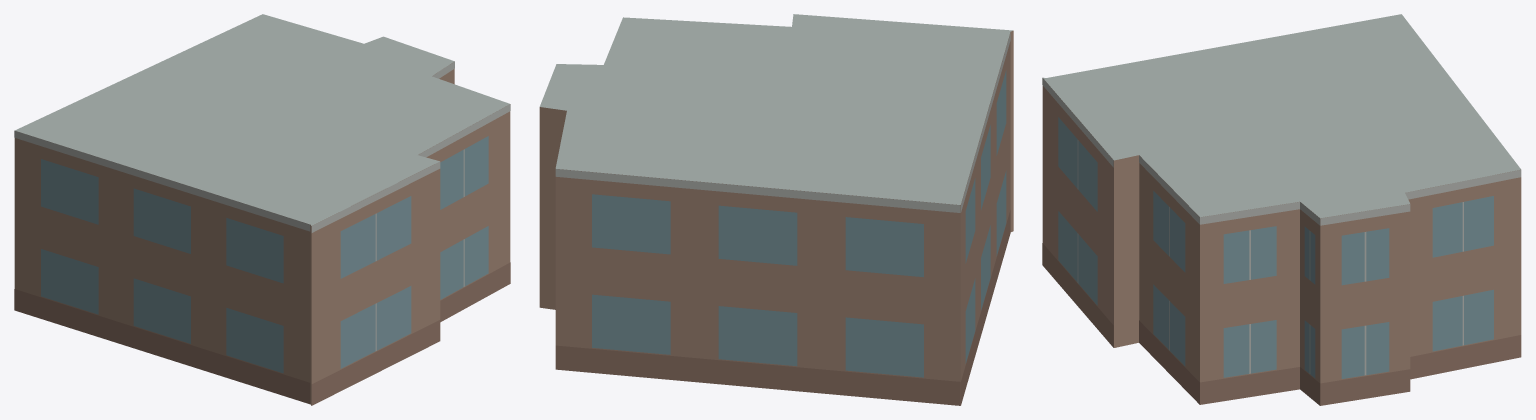
The model's file is survey-upis-32858192.glb.
3 renders of one model, left to right at view 1: azimuth 30°, elevation 25°; view 2: azimuth 150°, elevation 25°; view 3: azimuth 270°, elevation 25°, orthographic. The views are drawn at different scales.
Visible parts, largest first — view 1: survey-upis-32858192.tmp; view 2: survey-upis-32858192.tmp; view 3: survey-upis-32858192.tmp.
Part boxes in pixels (x1=…): survey-upis-32858192.tmp: x1=14, y1=14, x2=510, y2=405; survey-upis-32858192.tmp: x1=539, y1=14, x2=1013, y2=405; survey-upis-32858192.tmp: x1=1042, y1=14, x2=1521, y2=405.
Size of the model in its own units: 14.25 by 6.1 by 14.12.
